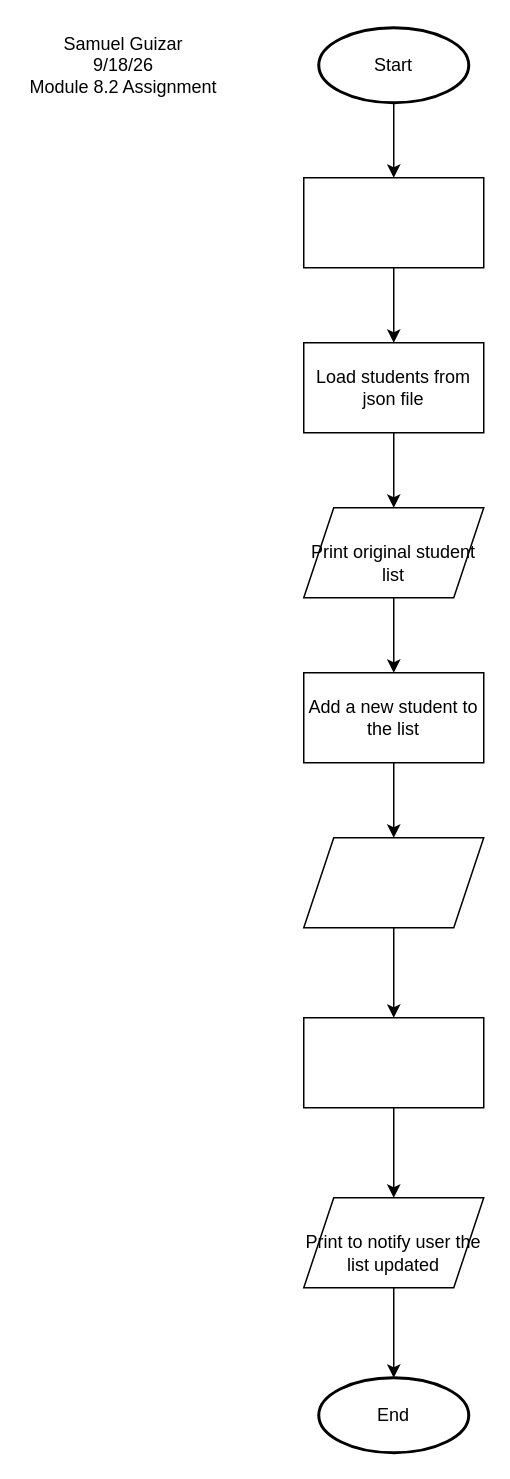
Some shapes in this 510 by 1479 pixel diagram are drawn without their labels. The shapes that lost their labels are listed below. From the top down, each one's centre as x and y in pixels, then its label:
At pixel 393 222: "Import json".
At pixel 393 882: "Print updated student list".
At pixel 393 1062: "Save updated information to json file".
